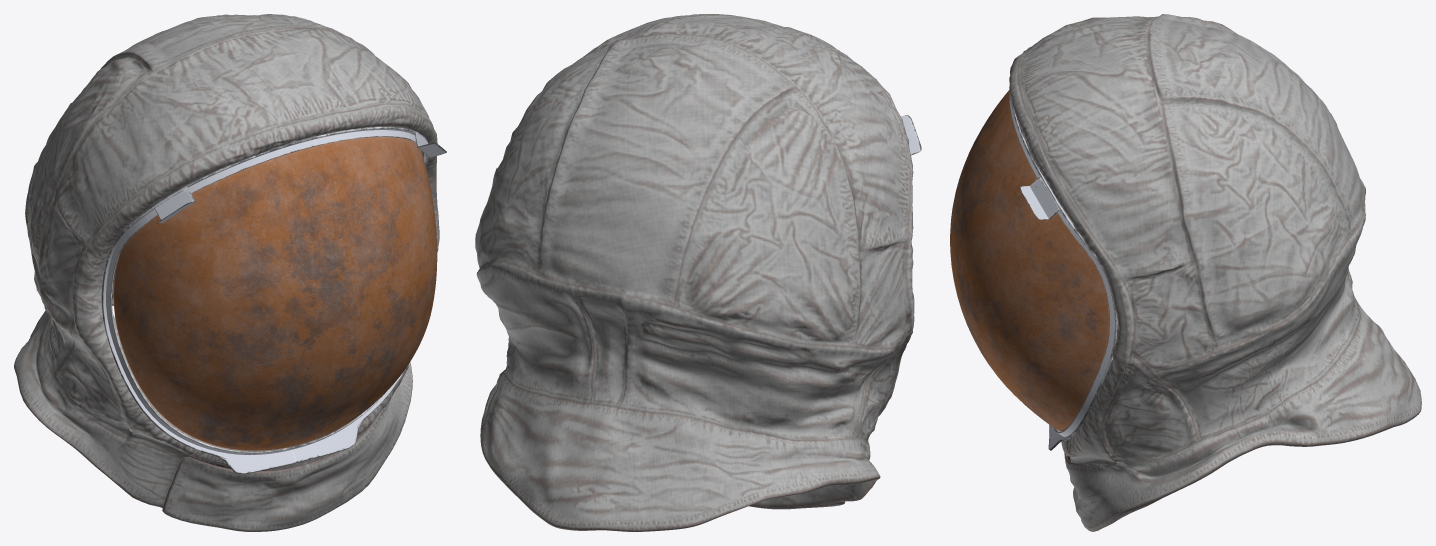
Rendered from helmet_apollo_11.glb.
3 views of the same model, side by side, from view 1: azimuth 30°, elevation 25°; view 2: azimuth 150°, elevation 25°; view 3: azimuth 270°, elevation 25° (orthographic). The views are drawn at different scales.
Visible parts, largest first — view 1: g (×3); view 2: g; view 3: g (×3).
Part boxes in pixels (<box>): g (×3): <box>14,14,446,531</box>; g: <box>475,14,914,531</box>; g (×3): <box>950,14,1421,531</box>.
Size of the model in its own units: 1.62 by 2 by 1.82.
Materials: 3 (3 with a texture image).
